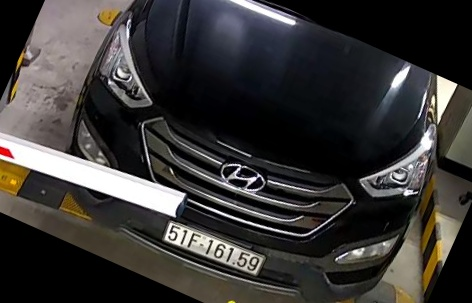plate: (162, 220, 266, 287)
